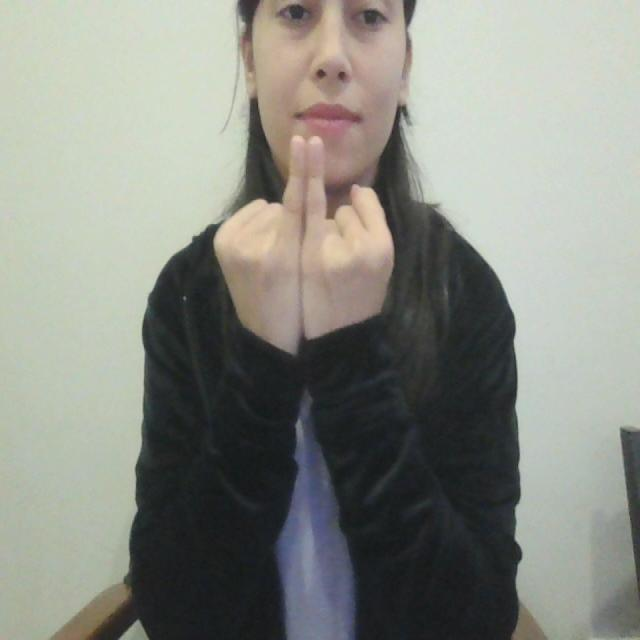Kardes: (212, 130, 399, 362)
